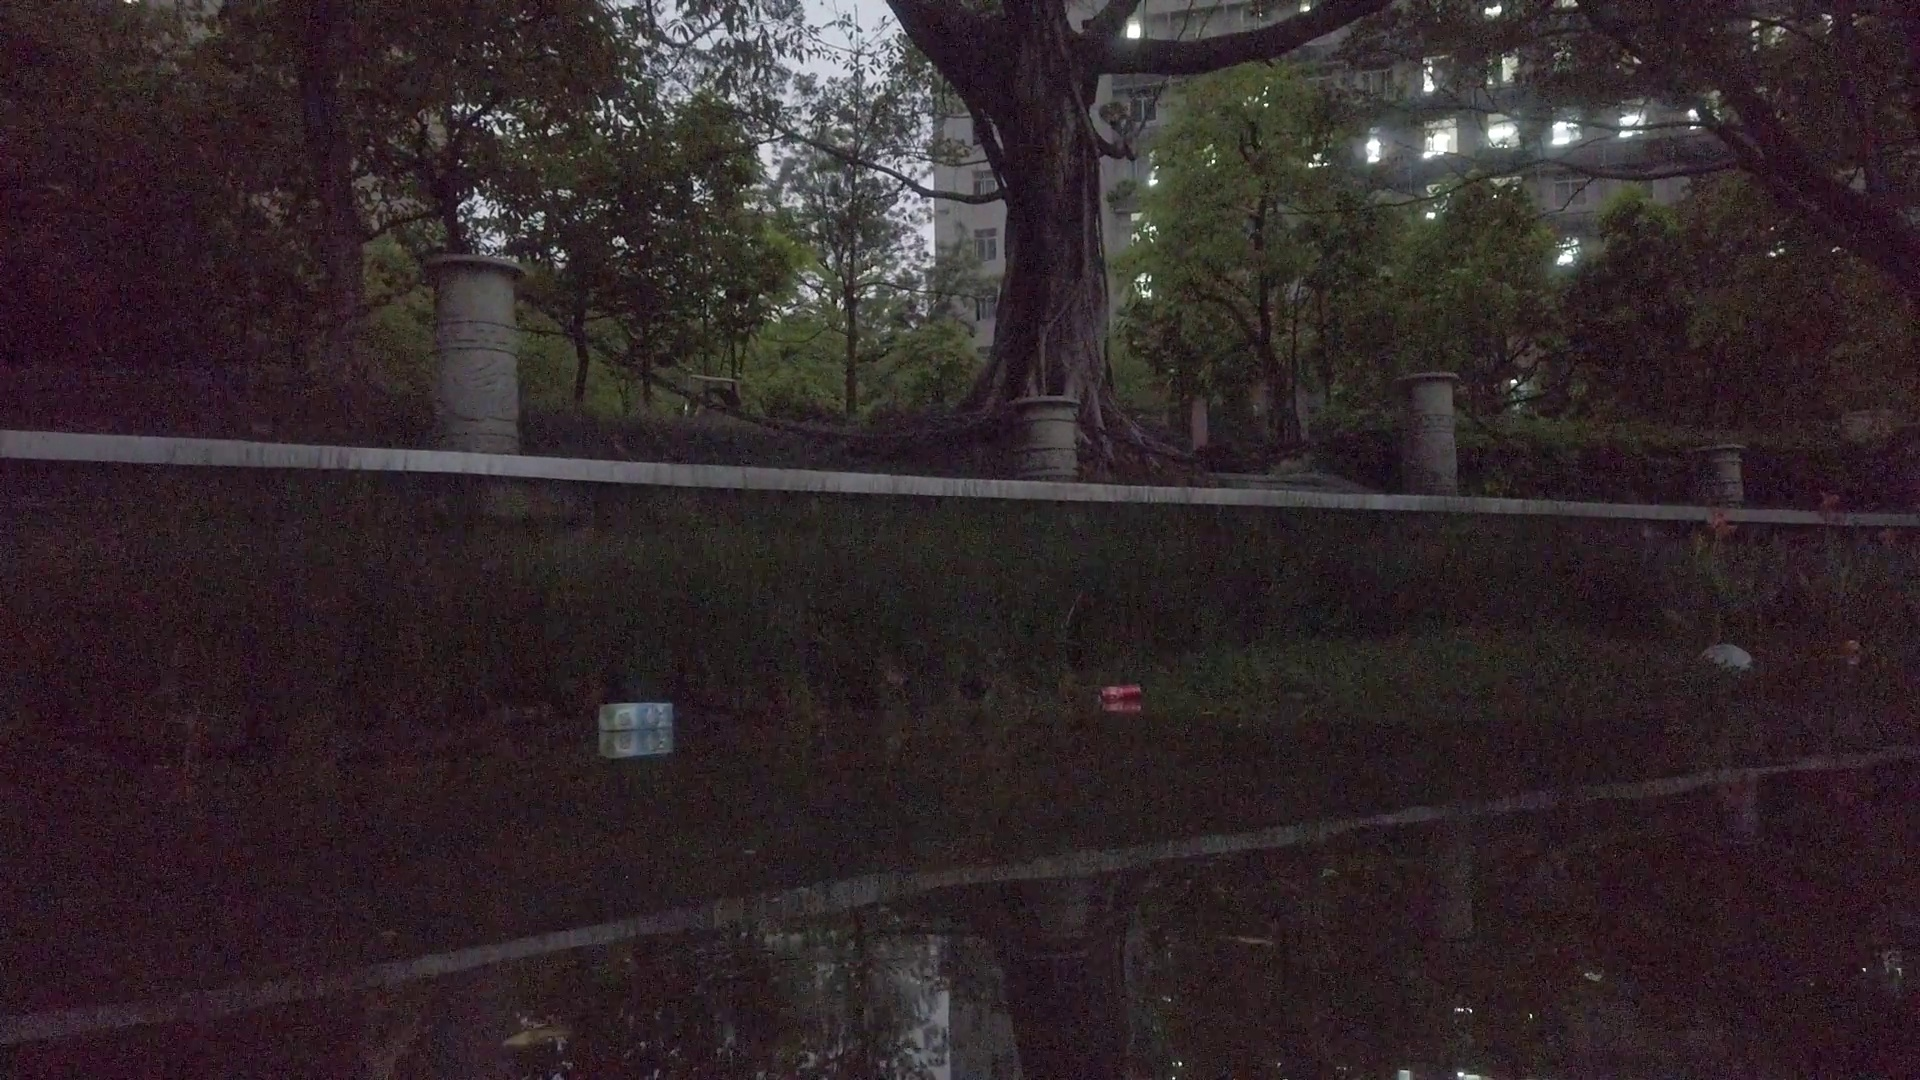bottle: (1095, 687, 1145, 703), (1836, 633, 1865, 659)
carton: (595, 702, 676, 732)
plastic: (1692, 638, 1758, 673)
